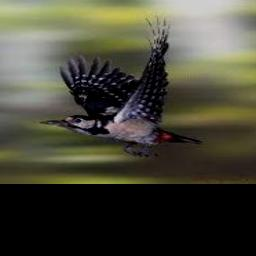Woodpecker: (40, 15, 204, 156)
